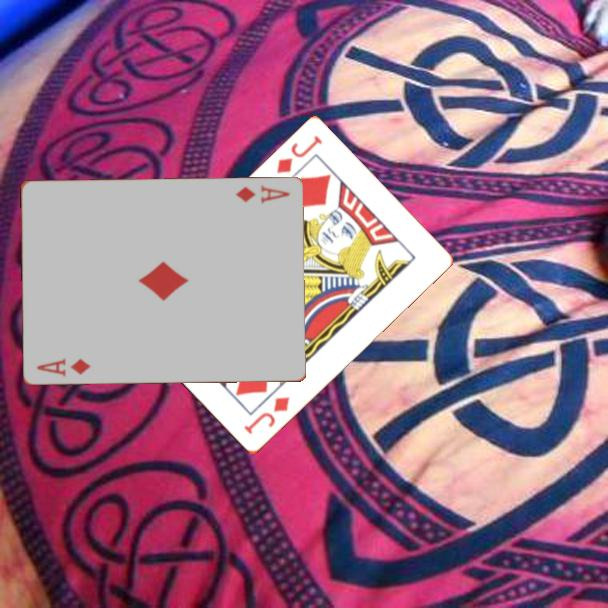d01: (232, 182, 292, 207), (33, 355, 93, 379)
d11: (273, 132, 325, 177), (240, 394, 293, 438)
